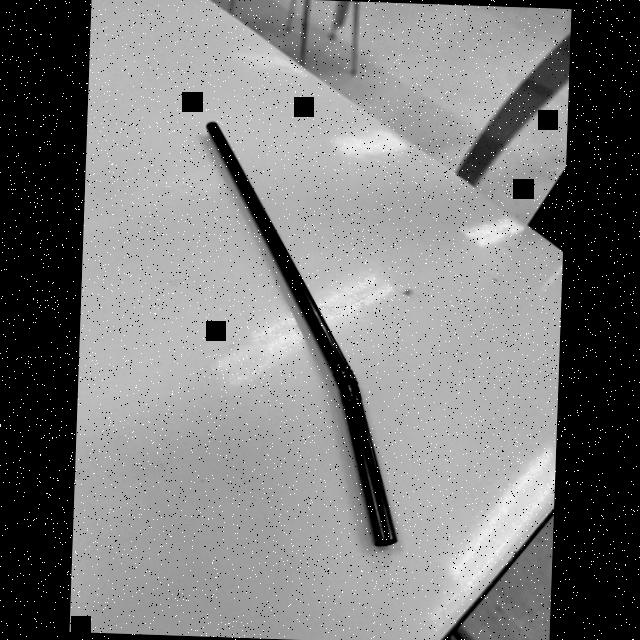straw: (192, 119, 416, 552)
